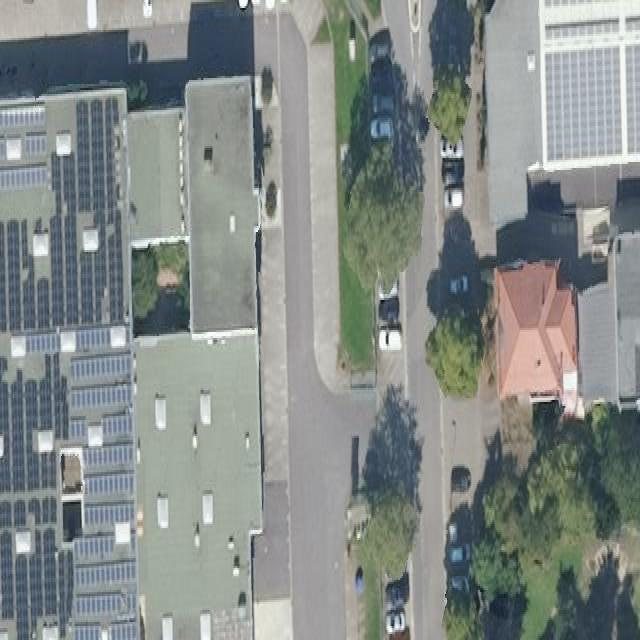PV: (1, 94, 126, 335), (0, 353, 76, 638), (68, 352, 139, 638), (544, 41, 639, 162), (543, 10, 639, 43), (1, 131, 49, 164), (1, 162, 50, 191), (0, 103, 49, 131), (73, 328, 113, 354), (25, 331, 63, 357), (541, 1, 612, 14)
